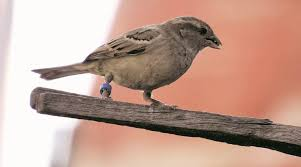hsparrow: (28, 12, 229, 122)
